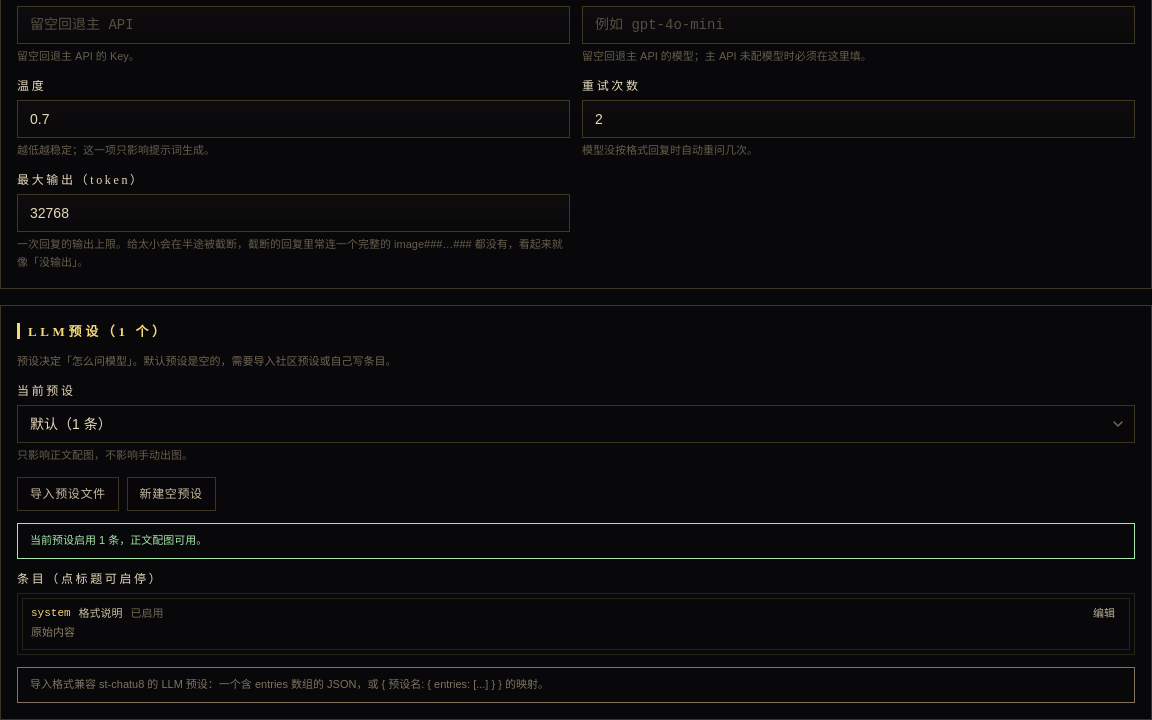
Test case: 条目编辑 › 点「编辑」出现可改的输入框，且带出原内容
(page scrolled)
Click the button "编辑": (1104, 613) left=1087, top=605, right=1121, bottom=621
(page scrolled)
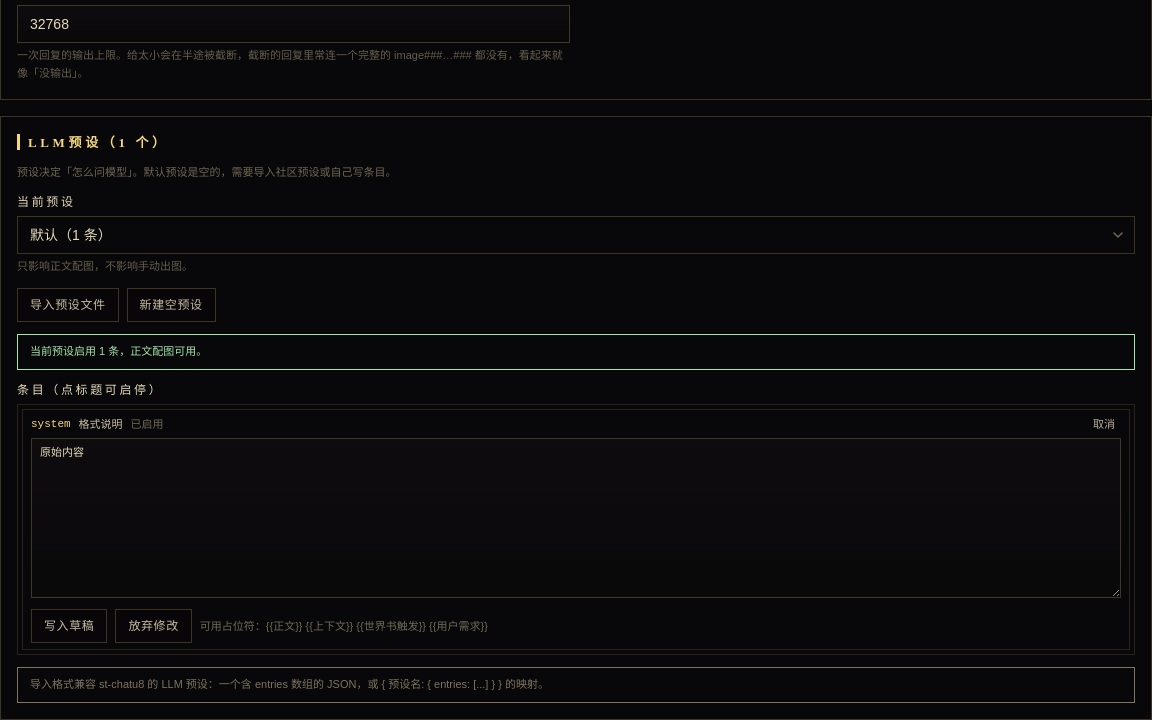
Check: the text box showing "原始内容" is shown, box left=31, top=438, right=1121, bottom=598
